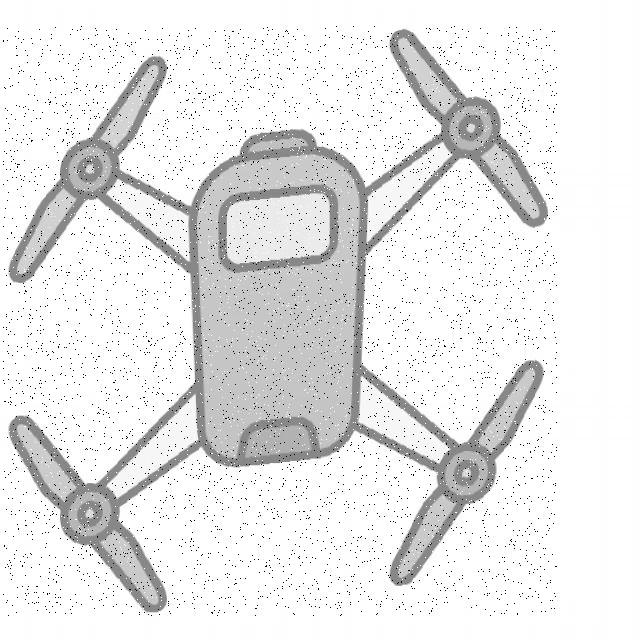drone: (4, 27, 558, 617)
